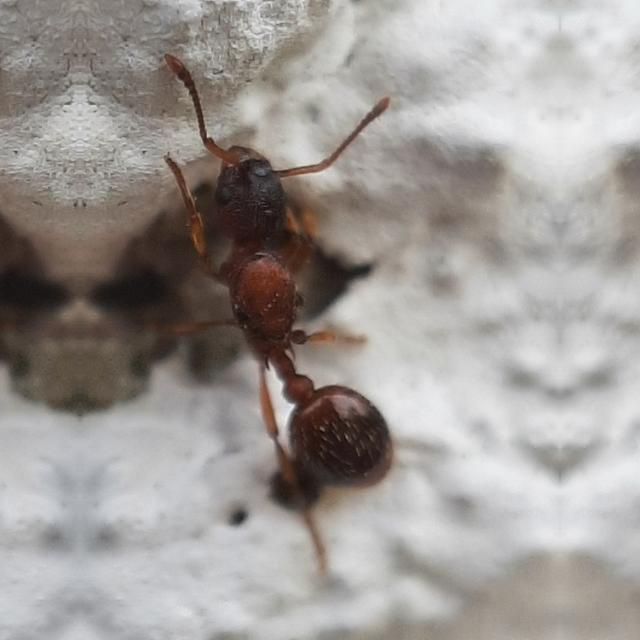Myrmica: (144, 70, 423, 554)
